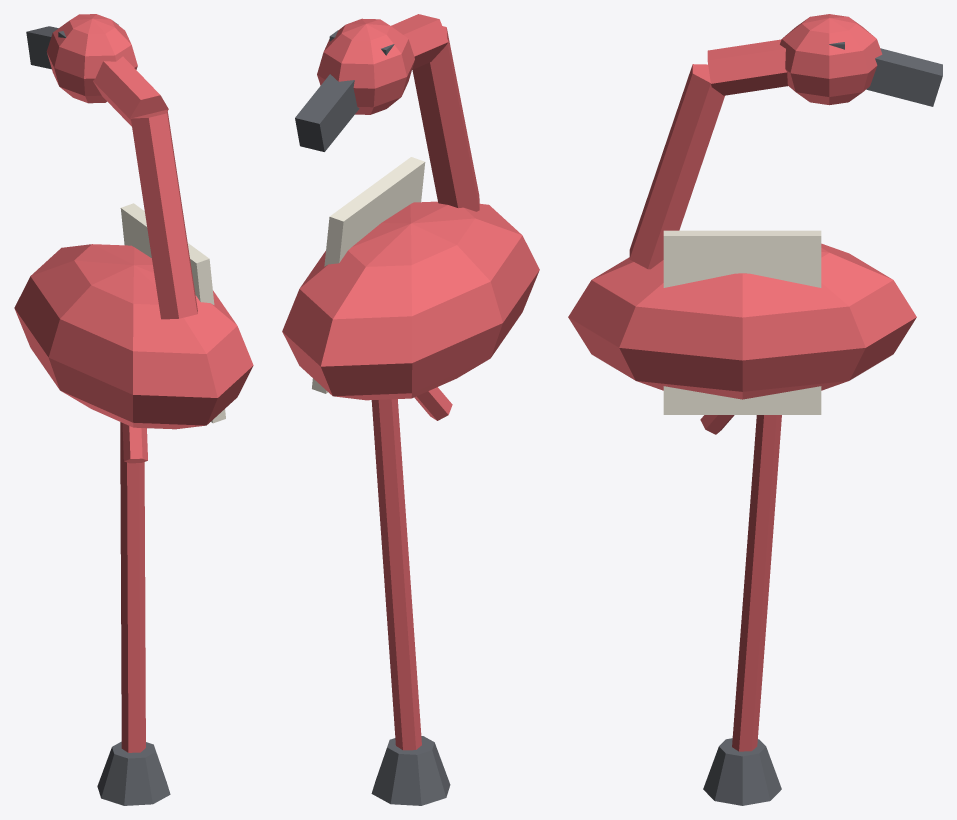
The model's file is lawn-mowing-simulator-kit-flamingo-lawn-ornament-6df2b700__27408.glb.
3 views of the same model, side by side, from view 1: azimuth 30°, elevation 25°; view 2: azimuth 150°, elevation 25°; view 3: azimuth 270°, elevation 25° (orthographic). The views are drawn at different scales.
Parts seen in each view (by area): view 1: flamingo-lawn-ornament; view 2: flamingo-lawn-ornament; view 3: flamingo-lawn-ornament.
Part boxes in pixels (x1,y1,x2,y2): flamingo-lawn-ornament: (14,14,253,805); flamingo-lawn-ornament: (282,14,539,805); flamingo-lawn-ornament: (568,14,942,805).
Bounding box in the file's own units: 0.26 × 1.08 × 0.4749.
